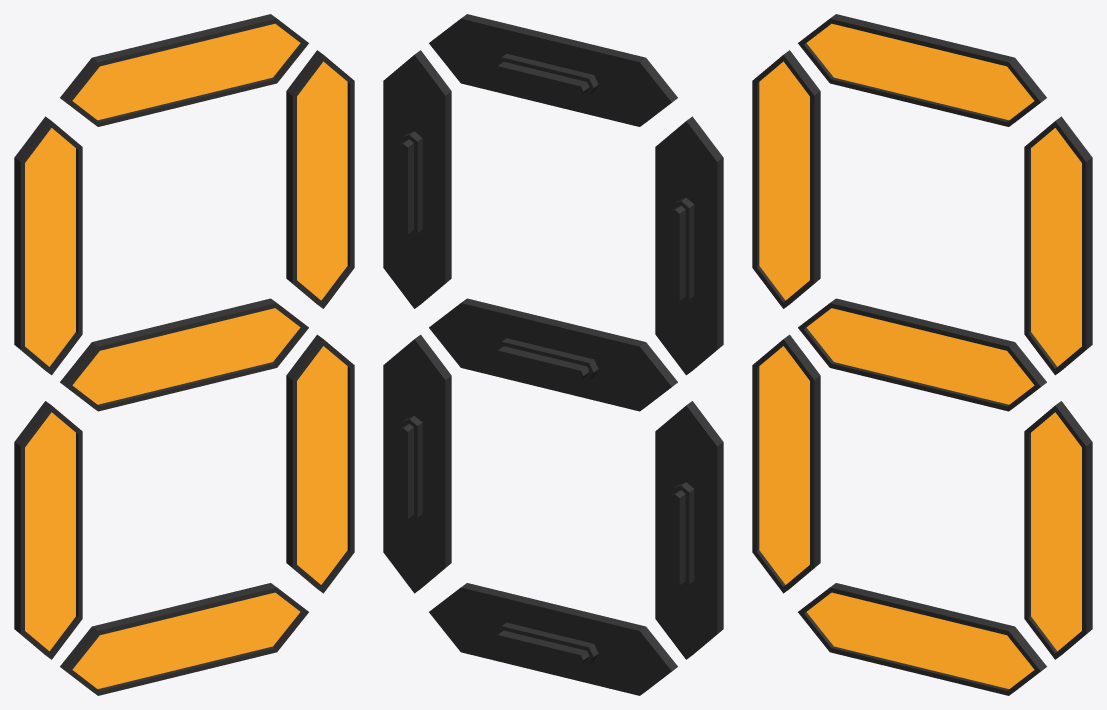
File: clock.glb
3 views of the same model, side by side, from view 1: azimuth 30°, elevation 25°; view 2: azimuth 150°, elevation 25°; view 3: azimuth 330°, elevation 25° (orthographic).
Visible parts, largest first — view 1: bottom_right, top_left, bottom_left, top_right, bottom_mid, bottom, top; view 2: bottom_right, top_left, bottom_left, top_right, bottom_mid, bottom, top; view 3: bottom_left, top_right, bottom_right, top_left, bottom_mid, bottom, top.
Boxes of the visible parts, x1,y1,x2,y2 form: bottom_right: (286,334,354,593); top_left: (14,116,82,375); bottom_left: (14,401,82,659); top_right: (286,50,354,308); bottom_mid: (60,298,308,411); bottom: (60,583,308,695); top: (60,14,308,126); bottom_right: (383,334,451,593); top_left: (655,116,723,375); bottom_left: (655,401,723,659); top_right: (383,50,451,308); bottom_mid: (429,298,677,411); bottom: (429,583,677,695); top: (429,14,677,126); bottom_left: (752,334,820,593); top_right: (1024,116,1092,375); bottom_right: (1024,401,1092,659); top_left: (752,50,820,308); bottom_mid: (798,298,1046,411); bottom: (798,583,1046,695); top: (798,14,1046,126).
Bounding box in the file's own units: 8.6 × 15.6 × 0.7753.
